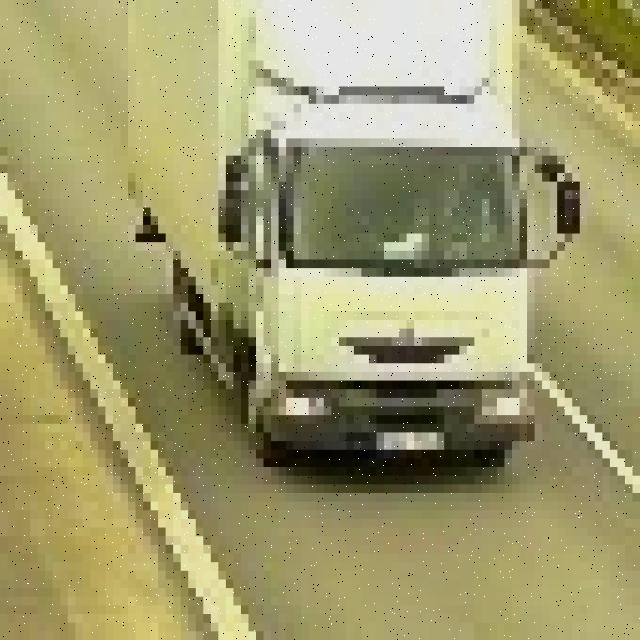truck: (136, 0, 580, 467)
